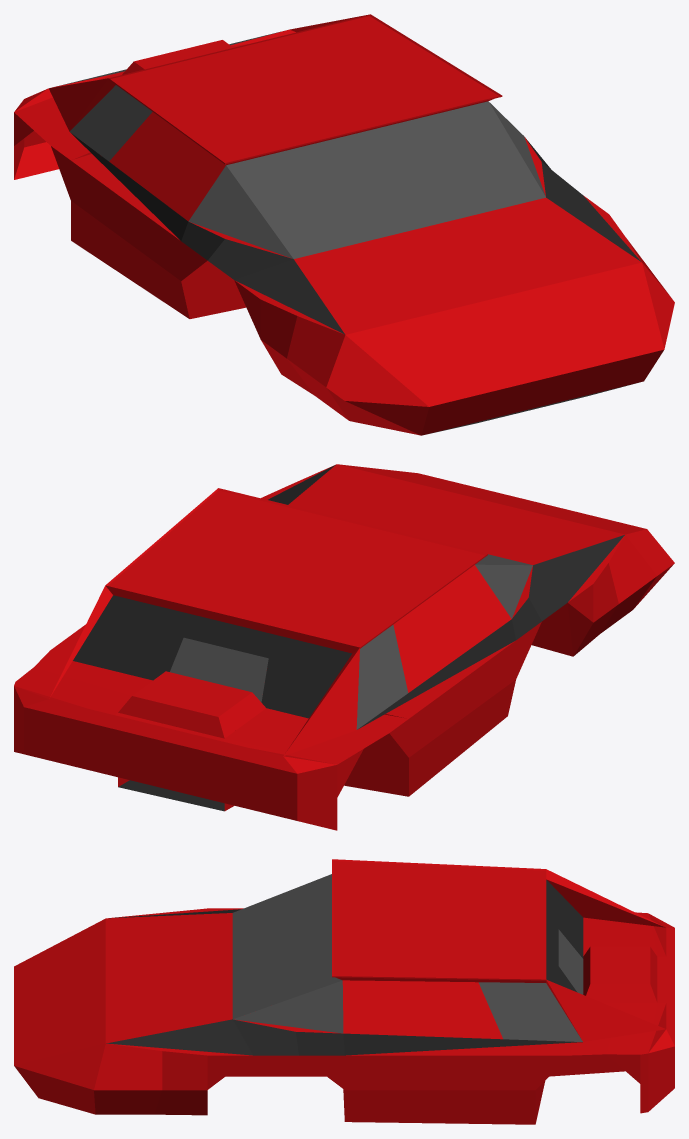
Rendered from Auto_Exp.fbx.
3 views of the same model, one above another, from view 1: azimuth 30°, elevation 25°; view 2: azimuth 150°, elevation 25°; view 3: azimuth 270°, elevation 25° (orthographic). The views are drawn at different scales.
Parts seen in each view (by area): view 1: Plane.001, Plane.000; view 2: Plane.001, Plane.000; view 3: Plane.001, Plane.000.
Part boxes in pixels (x1,y1,x2,y2): Plane.001: (14, 14, 674, 435); Plane.000: (69, 85, 545, 258); Plane.001: (14, 464, 674, 830); Plane.000: (170, 554, 532, 729); Plane.001: (14, 859, 674, 1124); Plane.000: (232, 874, 583, 1041).
Size of the model in its own units: 127 by 54.77 by 240.
